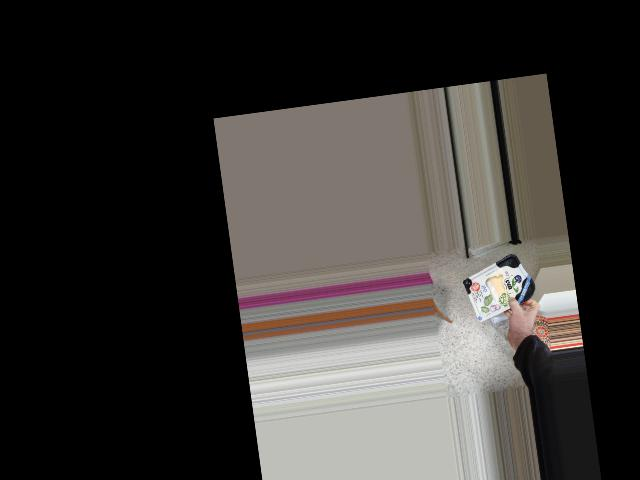cheese: (462, 261, 535, 317)
